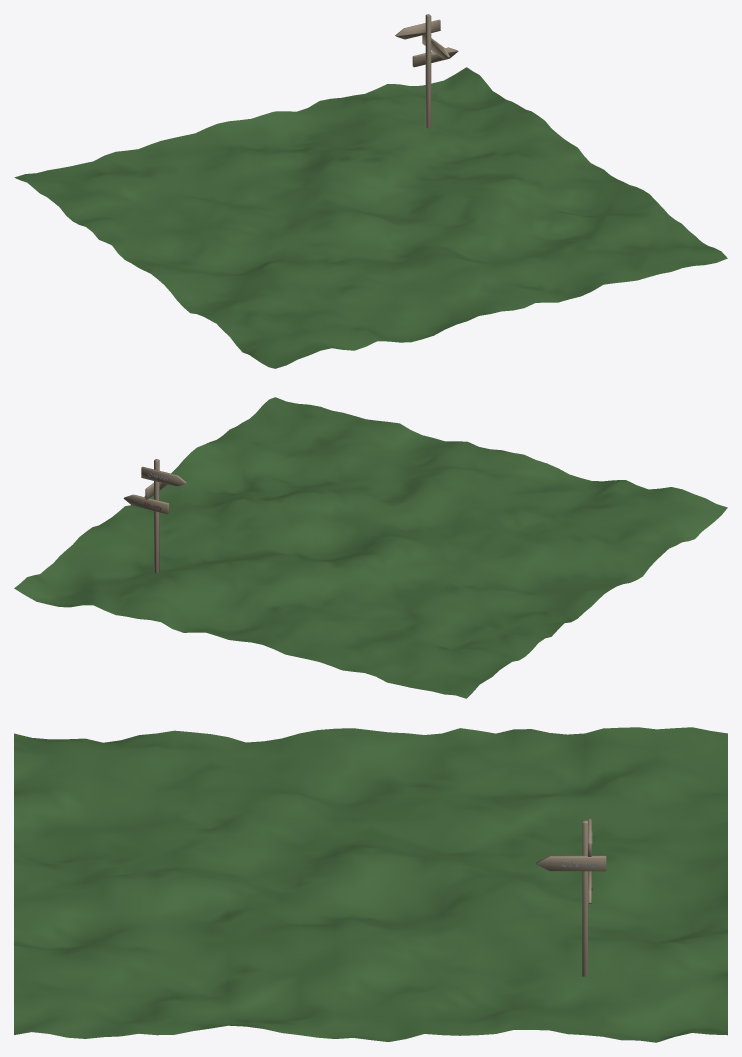
Rendered from Sign post.fbx.
3 views of the same model, one above another, from view 1: azimuth 30°, elevation 25°; view 2: azimuth 150°, elevation 25°; view 3: azimuth 270°, elevation 25° (orthographic). The views are drawn at different scales.
Parts seen in each view (by area): view 1: Ground, Cube; view 2: Ground, Cube, Plane_001, Plane; view 3: Ground, Plane_002, Cube.
Boxes of the visible parts, x1,y1,x2,y2 form: Ground: [14, 67, 727, 368]; Cube: [425, 14, 431, 128]; Ground: [14, 397, 727, 698]; Cube: [154, 459, 159, 572]; Plane_001: [123, 494, 169, 514]; Plane: [141, 466, 186, 486]; Ground: [14, 727, 727, 1042]; Plane_002: [536, 855, 606, 871]; Cube: [582, 820, 587, 976].
Size of the model in its own units: 1008 by 265 by 1008.
